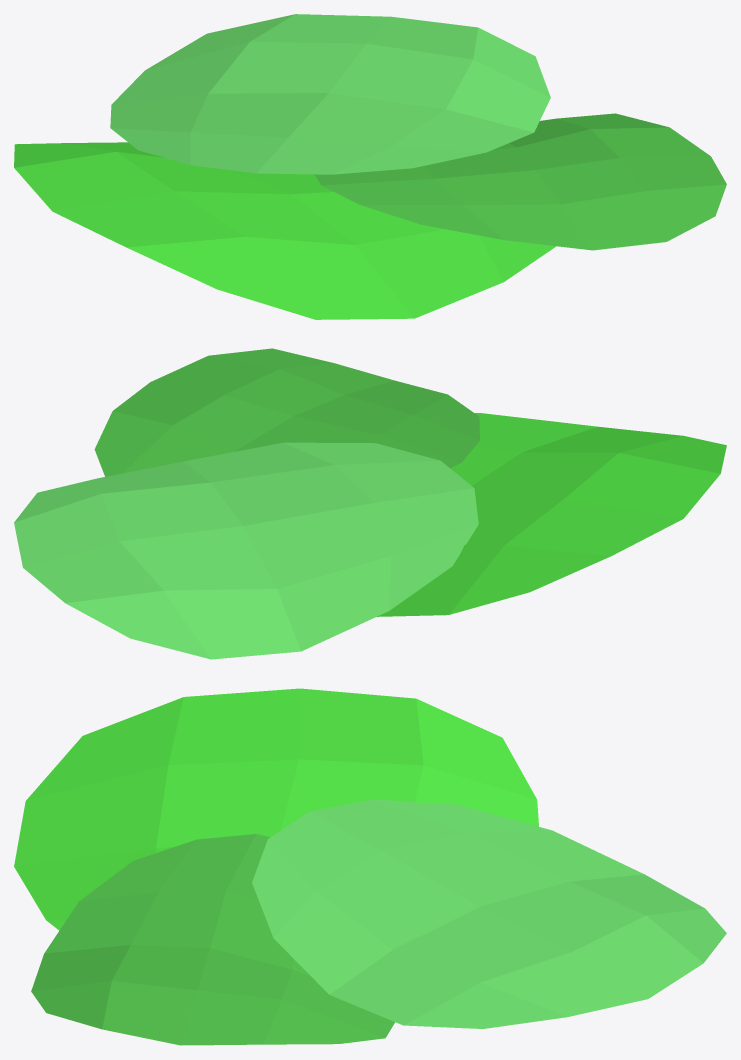
Rendered from latooc-sliced.fbx.
3 views of the same model, one above another, from view 1: azimuth 30°, elevation 25°; view 2: azimuth 150°, elevation 25°; view 3: azimuth 270°, elevation 25° (orthographic). The views are drawn at different scales.
Visible parts, largest first — view 1: Plane; view 2: Plane; view 3: Plane.
Boxes of the visible parts, x1,y1,x2,y2 form: Plane: [14, 14, 726, 319]; Plane: [14, 348, 726, 659]; Plane: [14, 688, 726, 1045].
Bounding box in the file's own units: 211 × 24.46 × 208.
